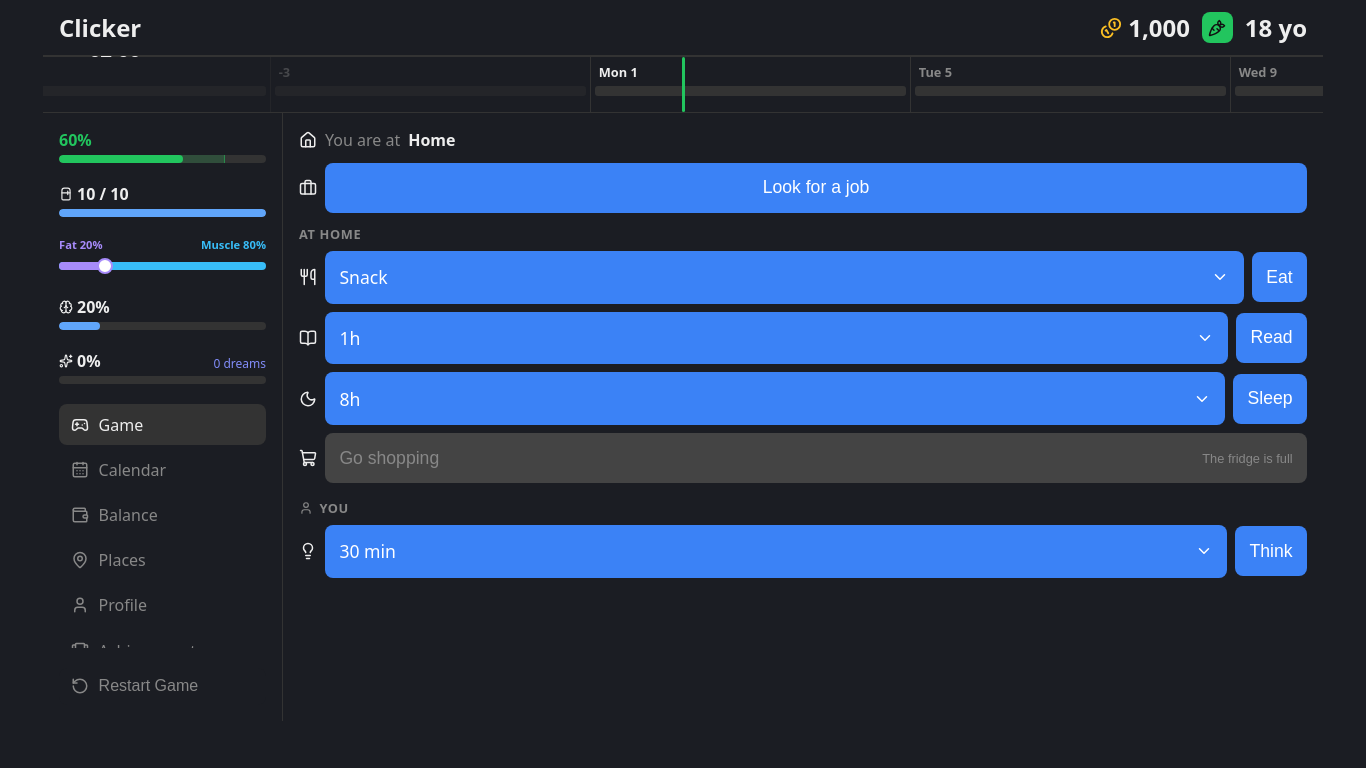
Test case: the sidebar opens the balance page, with what work paid
Click the link "Balance". click: [114, 515]
box: [71,504,158,526]
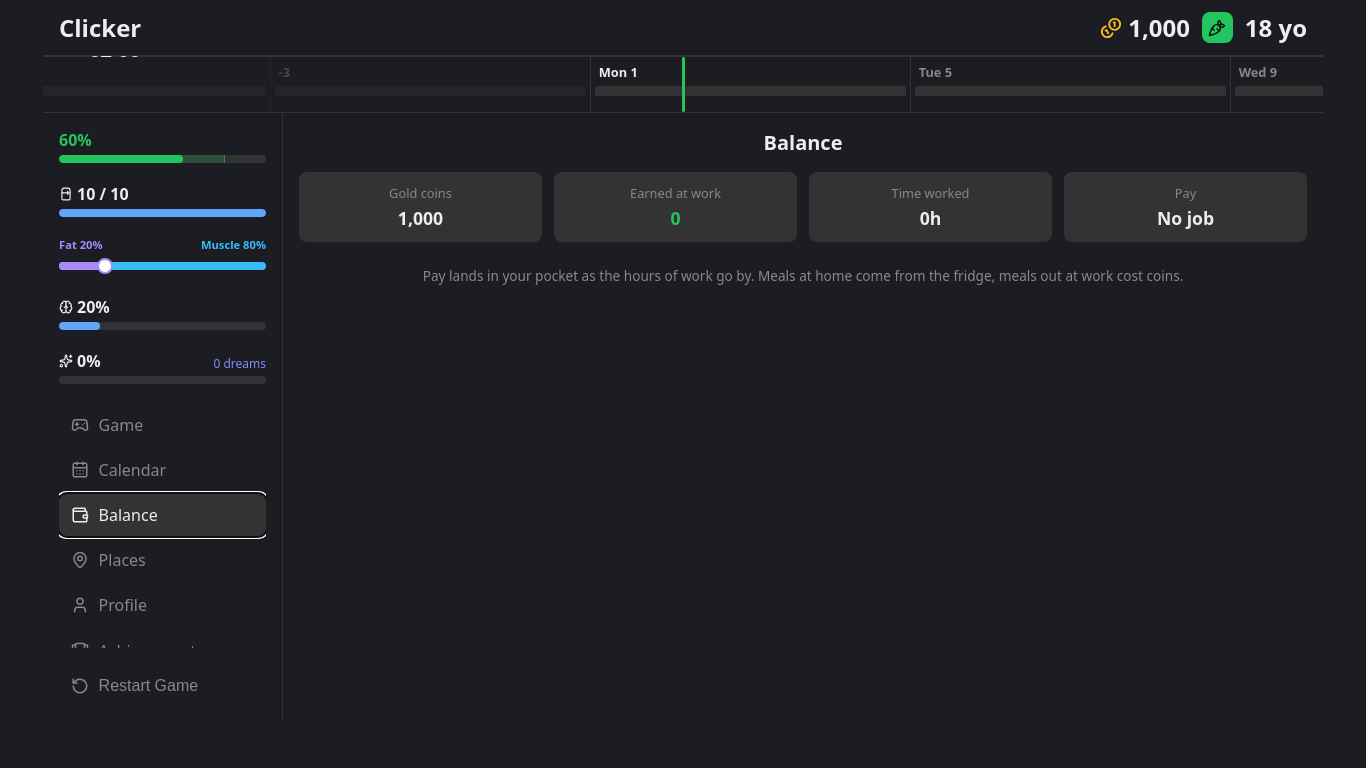
Expected: the heading "Balance" is shown, [764,129,842,156]
Expected: the text "Gold coins" is shown, [389,184,452,202]
Expected: the text "Earned at work" is shown, [630,184,721,202]
